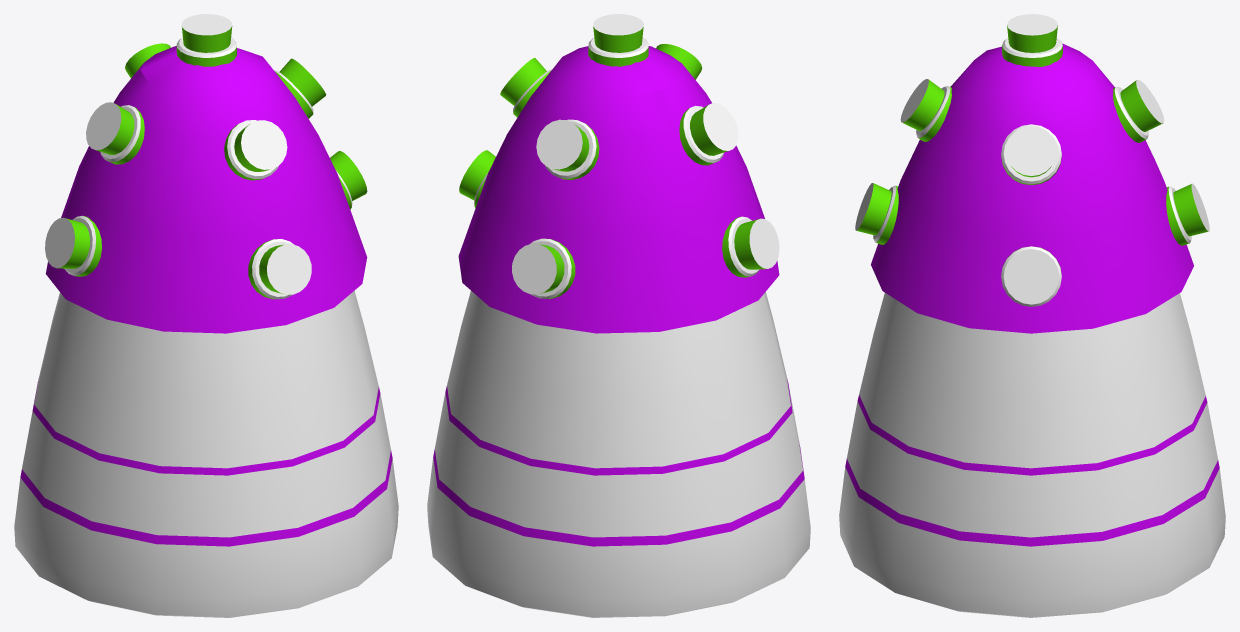
Rendered from head_lv10.fbx.
3 views of the same model, side by side, from view 1: azimuth 30°, elevation 25°; view 2: azimuth 150°, elevation 25°; view 3: azimuth 270°, elevation 25° (orthographic).
Visible parts, largest first — view 1: head_lv10-; view 2: head_lv10-; view 3: head_lv10-.
Boxes of the visible parts, x1,y1,x2,y2 form: head_lv10-: (14,14,398,617); head_lv10-: (427,14,810,617); head_lv10-: (839,14,1225,617).
Bounding box in the file's own units: 140 × 211 × 140.
